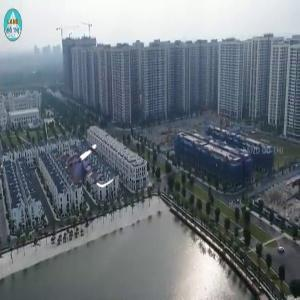drone: (54, 135, 119, 200)
